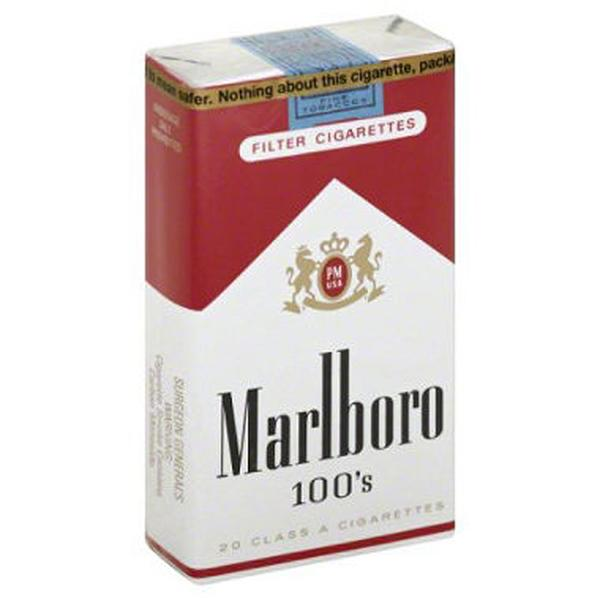marlboro_red: (187, 76, 454, 532)
